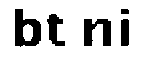b: (3, 4, 43, 51)
i: (116, 6, 138, 52)
n: (81, 17, 114, 51)
t: (43, 11, 72, 52)
